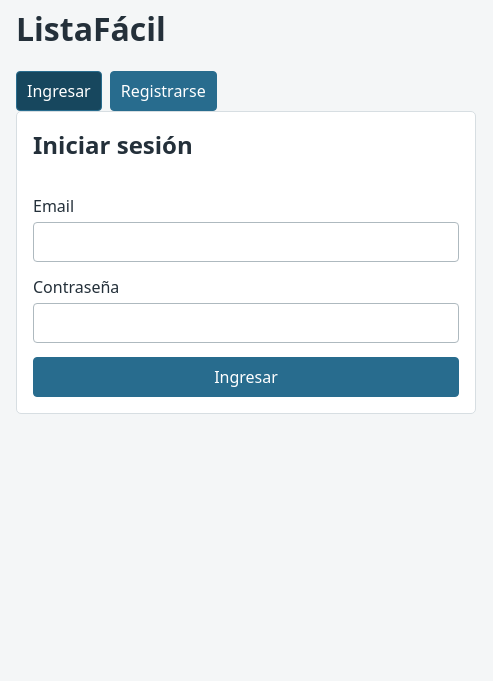
Test: confirmación de contraseña en el registro › rechaza coincidencia no exacta: Password123 / password123 sin HTTP
This screenshot has width=493, height=681.
Click the button "Registrarse".
click(163, 91)  # box [110,71,217,111]
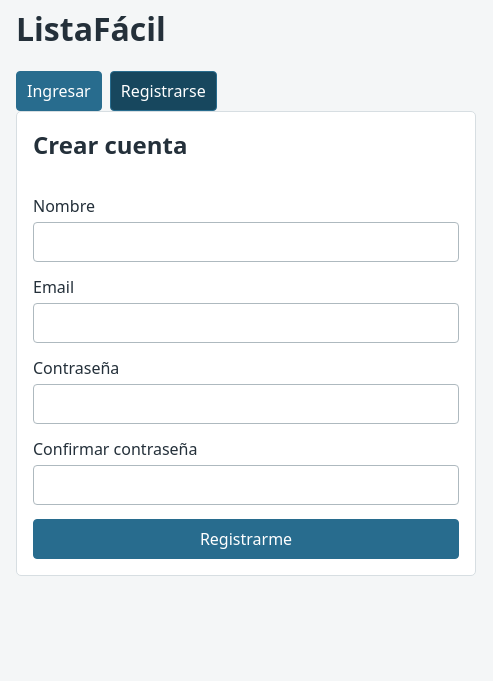
Type "Test" into the field labelled "Nombre".
click(246, 242); type("Test")  # box [33,222,459,262]
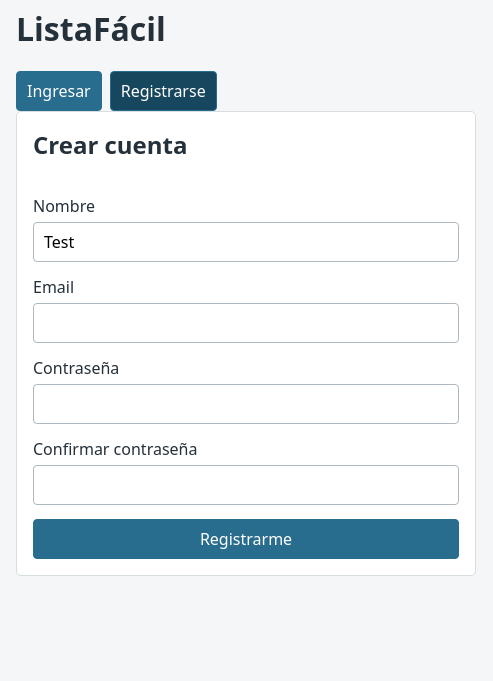
Type "test@example.invalid" into the field labelled "Email".
click(246, 323); type("test@example.invalid")  # box [33,303,459,343]
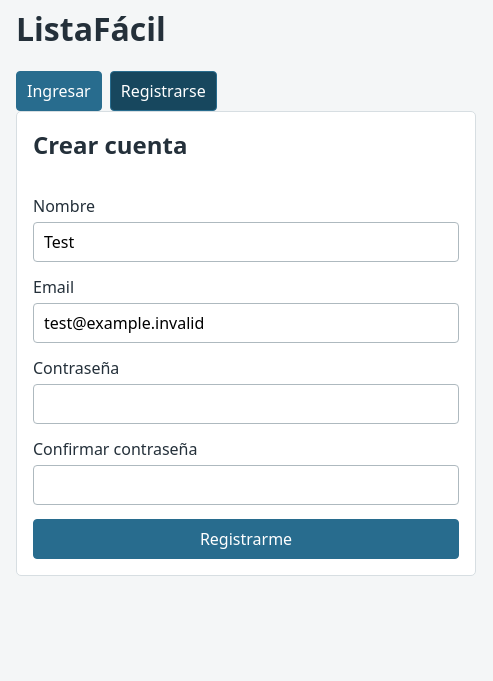
Type "Password123" into the password field labelled "Contraseña".
click(246, 404); type("Password123")  # box [33,384,459,424]
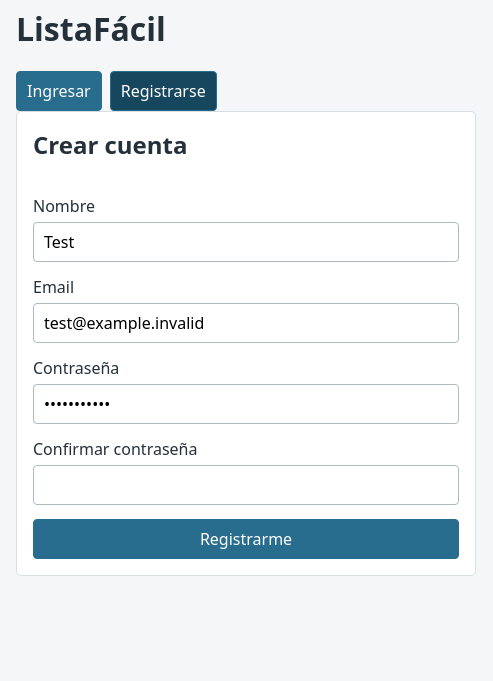
Type "password123" into the password field labelled "Confirmar contraseña".
click(246, 485); type("password123")  # box [33,465,459,505]
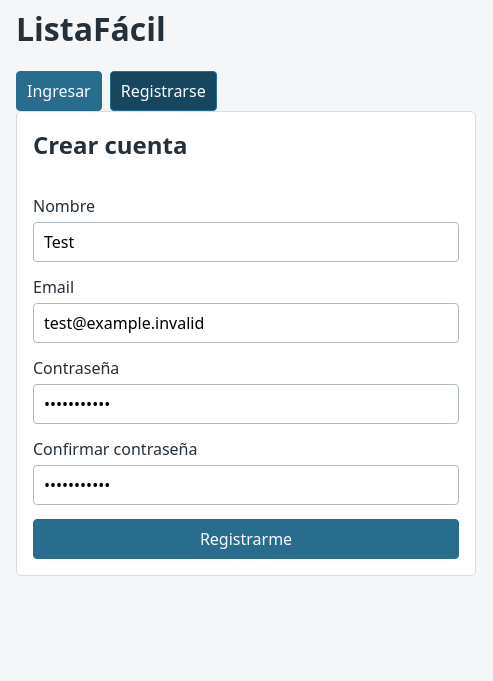
Click the button "Registrarme".
click(246, 539)  # box [33,519,459,559]
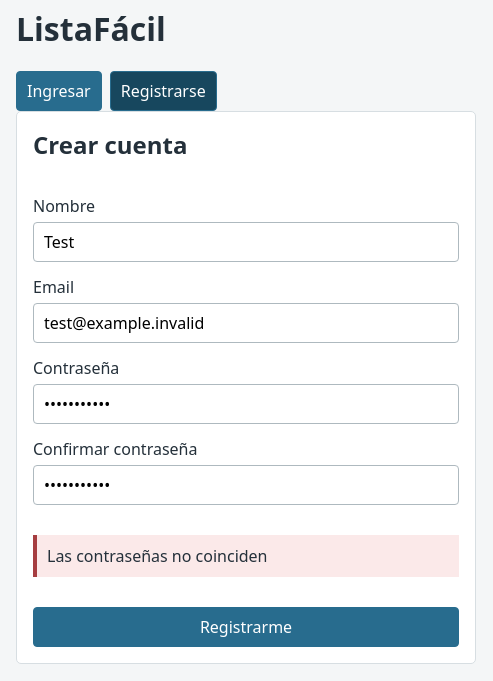
Expected: the button "Registrarme" is enabled, [33,607,459,647]
Expected: the text "Las contraseñas no coinciden" is shown, [33,535,459,577]
